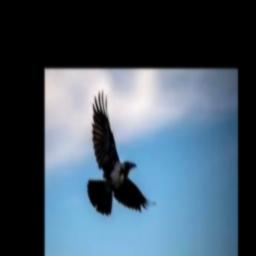Crow: (88, 90, 156, 215)
